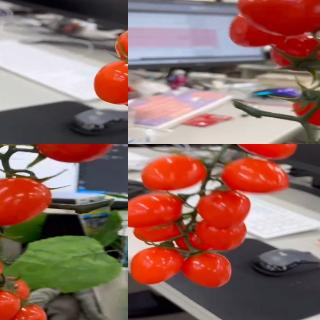tomato: (239, 0, 320, 34), (140, 153, 208, 192), (222, 156, 292, 193), (0, 178, 50, 229), (130, 246, 185, 286), (199, 189, 252, 229), (128, 191, 185, 228), (178, 250, 232, 289), (267, 35, 320, 72), (196, 218, 249, 252), (92, 59, 128, 105), (132, 216, 187, 245), (35, 144, 115, 162), (230, 144, 299, 161), (292, 90, 320, 128), (0, 303, 49, 320), (0, 288, 20, 320)
